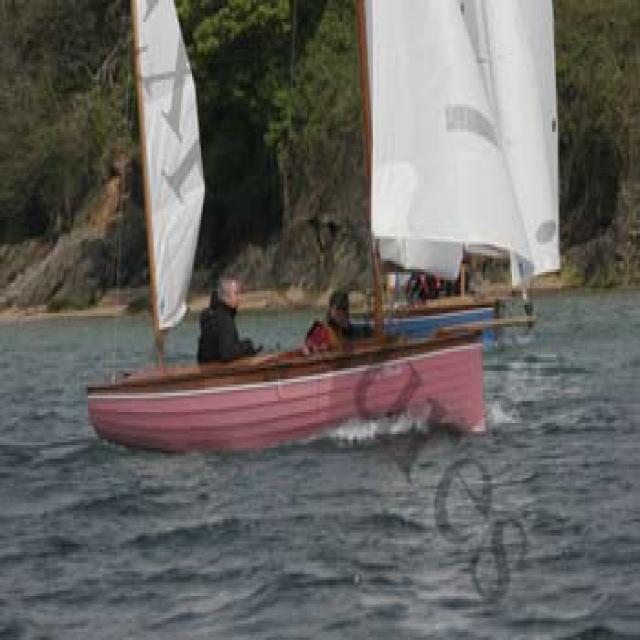Ship: (82, 1, 562, 450)
